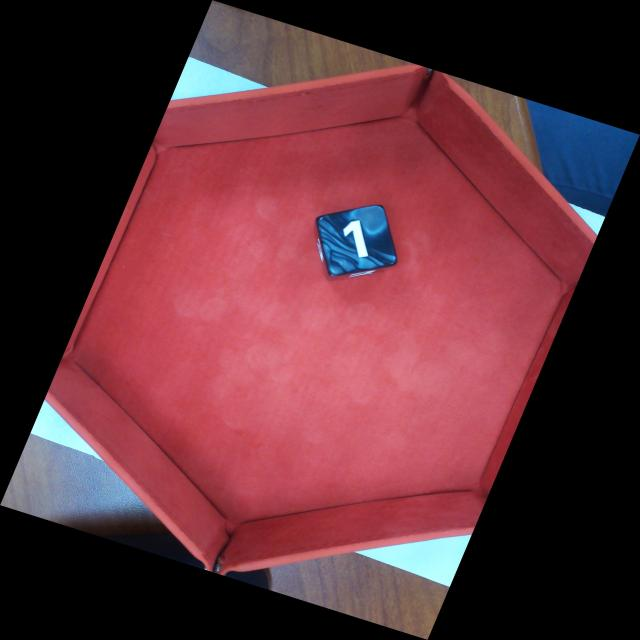dice: (315, 204, 399, 278)
